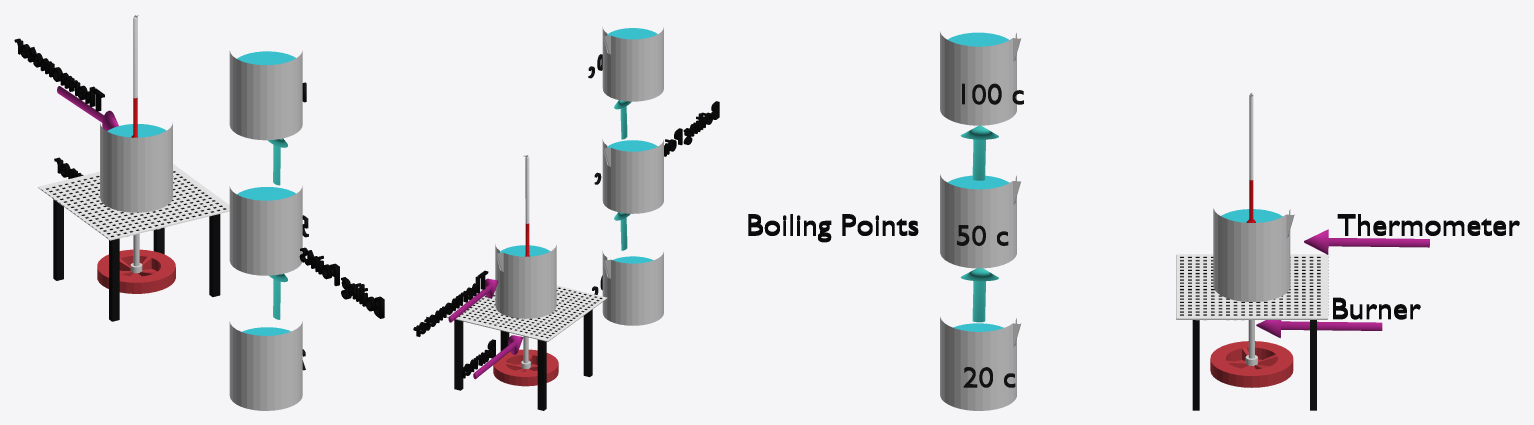
The model's file is Boiling.gltf.
3 views of the same model, side by side, from view 1: azimuth 30°, elevation 25°; view 2: azimuth 150°, elevation 25°; view 3: azimuth 270°, elevation 25° (orthographic). The views are drawn at different scales.
Parts seen in each view (by area): view 1: Circle.002, Circle.003, Circle.004, Circle.001, Plane, Plane.001, Circle, Text.006, Text.004, Cube.001, Cube, Cube.002 (+7 smaller); view 2: Circle.002, Circle.004, Circle.003, Circle.001, Plane.001, Plane, Circle, Text.004, Text.006, Cube.002, Cube.003, Cube (+9 smaller); view 3: Circle.001, Circle.003, Circle.004, Circle.002, Plane, Plane.001, Circle, Text.006, Text.004, Cylinder.007, Cylinder.006, Text.003 (+3 smaller).
Part boxes in pixels (x1,y1,x2,y2): Circle.002: [229, 50, 302, 140]; Circle.003: [229, 321, 302, 410]; Circle.004: [229, 186, 302, 275]; Circle.001: [100, 123, 172, 212]; Plane: [38, 164, 229, 239]; Plane.001: [38, 166, 229, 240]; Circle: [97, 249, 175, 293]; Text.006: [299, 247, 384, 318]; Text.004: [14, 38, 104, 111]; Cube.001: [209, 214, 220, 296]; Cube: [109, 238, 119, 321]; Cube.002: [53, 199, 63, 280]; Circle.002: [602, 27, 663, 101]; Circle.004: [602, 139, 663, 213]; Circle.003: [602, 251, 663, 325]; Circle.001: [495, 244, 556, 318]; Plane.001: [446, 285, 607, 341]; Plane: [446, 279, 606, 341]; Circle: [493, 349, 558, 386]; Text.004: [413, 270, 488, 336]; Text.006: [664, 101, 719, 156]; Cube.002: [537, 340, 546, 410]; Cube.003: [454, 319, 463, 390]; Cube: [583, 309, 592, 376]; Circle.001: [1213, 208, 1294, 301]; Circle.003: [940, 317, 1021, 410]; Circle.004: [940, 174, 1020, 268]; Circle.002: [940, 31, 1021, 125]; Plane: [1176, 254, 1328, 319]; Plane.001: [1176, 254, 1327, 320]; Circle: [1210, 341, 1293, 387]; Text.006: [748, 214, 918, 242]; Text.004: [1337, 214, 1519, 235]; Cylinder.007: [1304, 229, 1429, 254]; Cylinder.006: [1256, 320, 1382, 338]; Text.003: [1333, 297, 1420, 319].
Size of the model in its own units: 0.1553 by 0.4096 by 0.7859.
